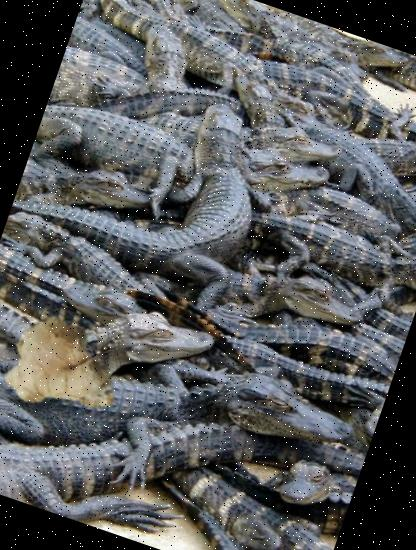Ginger: (0, 299, 139, 448)
